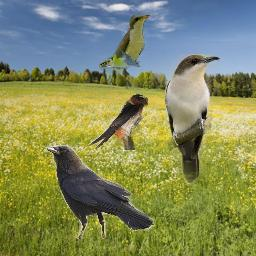Crow: (45, 145, 154, 239)
Cuckoo: (165, 54, 220, 185), (99, 13, 151, 75)
Swallow: (88, 94, 148, 150)
